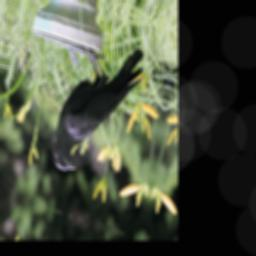Crow: (48, 24, 151, 192)
